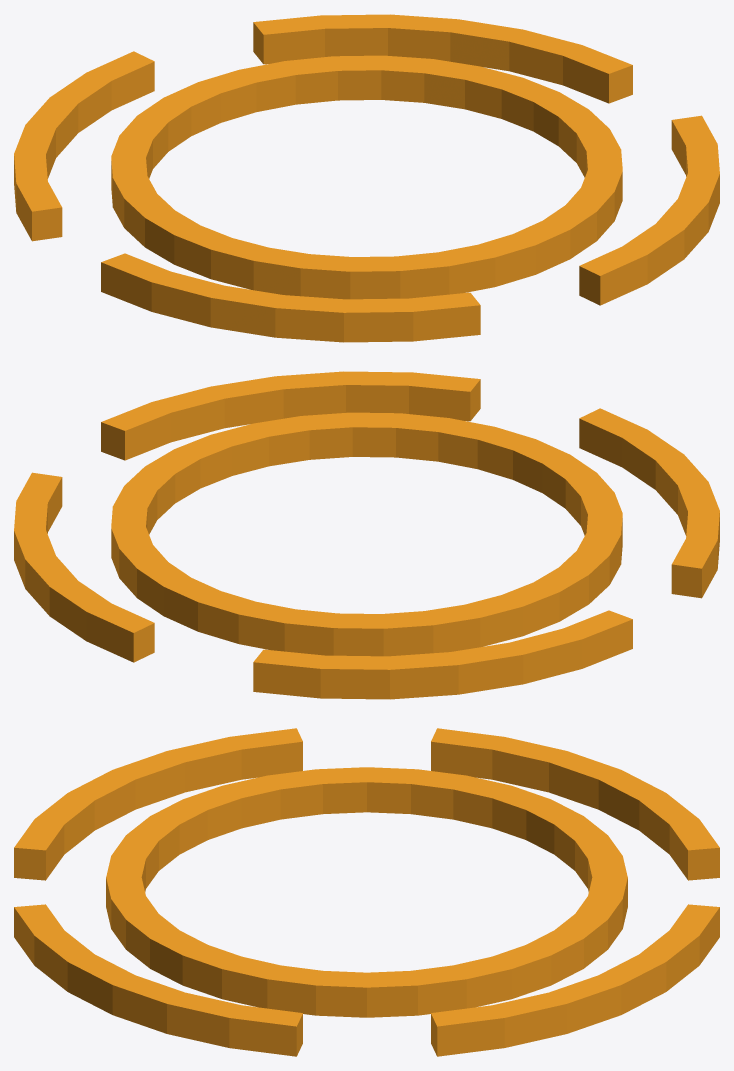
File: SM_Icon_SelectionRing_07.fbx
The picture shows the model from 3 angles, top to bottom: view 1: azimuth 30°, elevation 25°; view 2: azimuth 150°, elevation 25°; view 3: azimuth 270°, elevation 25°; orthographic projection.
Visible parts, largest first — view 1: SM_Icon_SelectionRing_07; view 2: SM_Icon_SelectionRing_07; view 3: SM_Icon_SelectionRing_07.
Part boxes in pixels (x1=…): SM_Icon_SelectionRing_07: x1=14, y1=14, x2=719, y2=342; SM_Icon_SelectionRing_07: x1=14, y1=371, x2=719, y2=699; SM_Icon_SelectionRing_07: x1=14, y1=728, x2=719, y2=1056.
Size of the model in its own units: 77.94 by 3.67 by 77.94.
